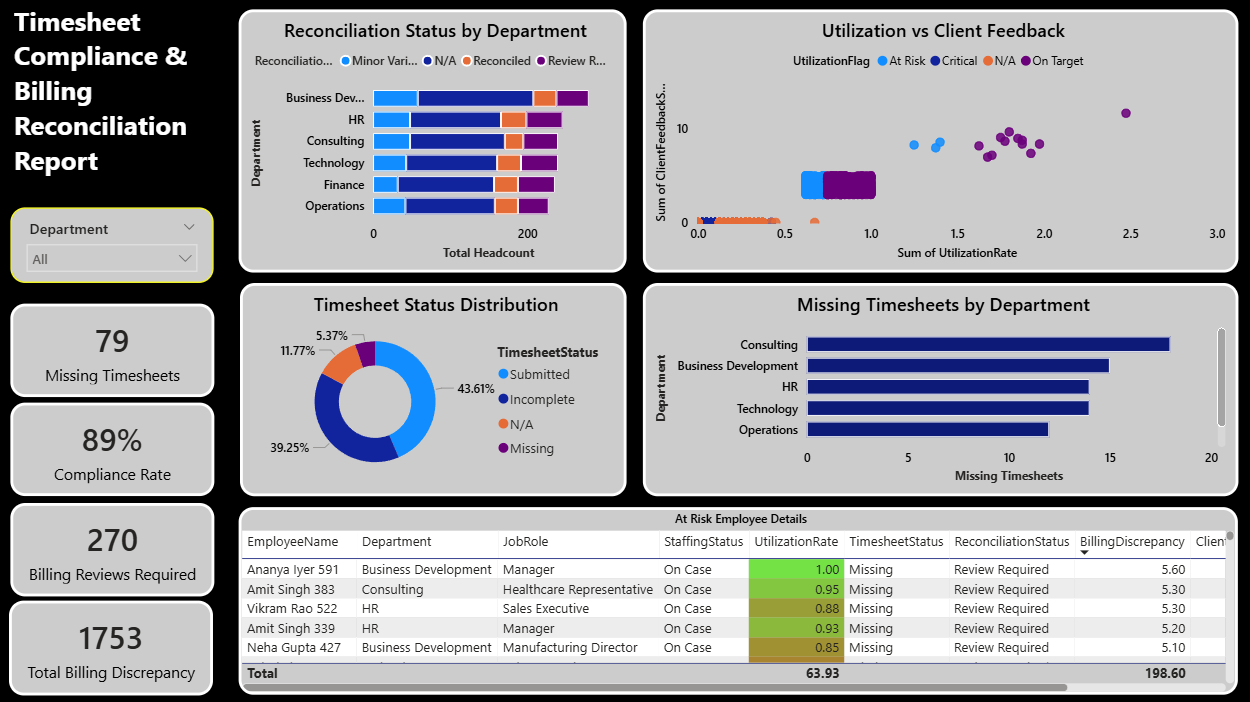

The page's visual inventory and layout, read from the dashboard file:
{"tool":"powerbi","page":{"name":"Timesheet & Reconciliation","canvas":[1280,720],"ordinal":1},"visuals":[{"type":"textbox","box":[11.4,0,234.3,188.6],"z":0},{"type":"card","fields":{"Values":["Sheet1.Missing Timesheets"]},"box":[12,312,208,95.3],"z":1000},{"type":"card","fields":{"Values":["Sheet1.Timesheet Compliance Rate"]},"box":[12,413.3,208,95.3],"z":2000},{"type":"card","fields":{"Values":["Sheet1.Review Required Count"]},"box":[12,515.3,208,95.3],"z":3000},{"type":"card","fields":{"Values":["Sheet1.Total Billing Discrepancy"]},"box":[11.8,615.5,208.2,96.4],"z":4000},{"type":"donutChart","title":"Timesheet Status Distribution","fields":{"Category":["Sheet1.TimesheetStatus"],"Y":["Sheet1.Total Headcount"]},"box":[247.1,291.4,394.3,217.1],"z":5000},{"type":"barChart","title":"Reconciliation Status by Department","fields":{"Category":["Sheet1.Department"],"Y":["Sheet1.Total Headcount"],"Series":["Sheet1.ReconciliationStatus"]},"box":[245.7,12.9,395.7,268.6],"z":6000},{"type":"barChart","fields":{"Category":["Sheet1.Department"],"Y":["Sheet1.Missing Timesheets"]},"box":[657.1,291.4,607.1,217.1],"z":7000},{"type":"scatterChart","title":"Utilization vs Client Feedback","fields":{"X":["Sum(Sheet1.UtilizationRate)"],"Y":["Sum(Sheet1.ClientFeedbackScore)"],"Category":["Sheet1.EmployeeName"],"Series":["Sheet1.UtilizationFlag"]},"box":[657.1,12.9,607.1,268.6],"z":8000},{"type":"tableEx","title":"At Risk Employee Details","fields":{"Values":["Sheet1.EmployeeName","Sheet1.Department","Sheet1.JobRole","Sheet1.StaffingStatus","Sum(Sheet1.UtilizationRate)","Sheet1.TimesheetStatus","Sheet1.ReconciliationStatus","Sum(Sheet1.BillingDiscrepancy)","Sum(Sheet1.ClientFeedbackScore)","Sheet1.UtilizationFlag"]},"box":[245.7,520,1018.6,191.4],"z":9000},{"type":"slicer","fields":{"Values":["Sheet1.Department"]},"box":[12.9,214.3,207.1,77.1],"z":10000}]}

Visuals, with their boxes in screenshot pixels (x1, y1, x2, y2), scaled from the page's 1280x720 canvas onto the 1250x702 screenshot:
textbox: [11, 0, 240, 184]
card - Sheet1.Missing Timesheets: [12, 304, 215, 397]
card - Sheet1.Timesheet Compliance Rate: [12, 403, 215, 496]
card - Sheet1.Review Required Count: [12, 502, 215, 595]
card - Sheet1.Total Billing Discrepancy: [12, 600, 215, 694]
"Timesheet Status Distribution" donutChart: [241, 284, 626, 496]
"Reconciliation Status by Department" barChart: [240, 13, 626, 274]
barChart - Sheet1.Department x Sheet1.Missing Timesheets: [642, 284, 1235, 496]
"Utilization vs Client Feedback" scatterChart: [642, 13, 1235, 274]
"At Risk Employee Details" tableEx: [240, 507, 1235, 694]
slicer - Sheet1.Department: [13, 209, 215, 284]
